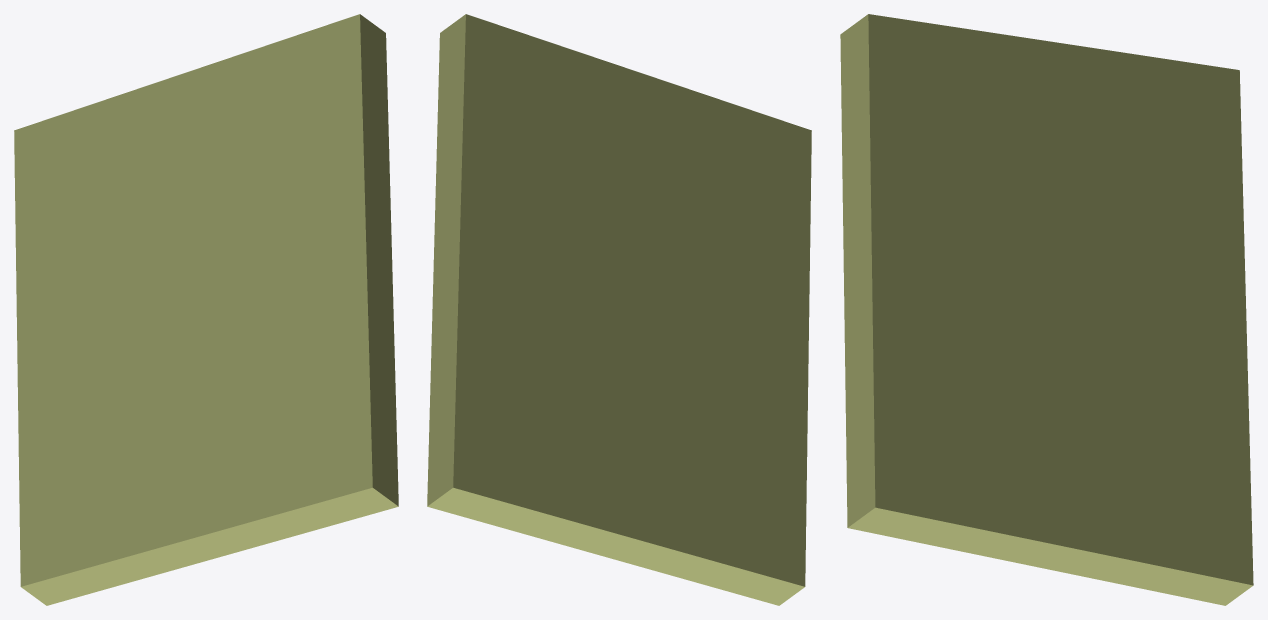
3 renders of one model, left to right at view 1: azimuth 30°, elevation 25°; view 2: azimuth 150°, elevation 25°; view 3: azimuth 330°, elevation 25°, orthographic. The views are drawn at different scales.
Parts seen in each view (by area): view 1: 0_0_3_1_2_3_0_3; view 2: 0_0_3_1_2_3_0_3; view 3: 0_0_3_1_2_3_0_3.
Boxes of the visible parts, box(x1,y1,x2,y2) form: 0_0_3_1_2_3_0_3: box(14, 14, 398, 605); 0_0_3_1_2_3_0_3: box(427, 14, 811, 605); 0_0_3_1_2_3_0_3: box(840, 14, 1253, 605).
Bounding box in the file's own units: 71.58 × 93.47 × 9.
